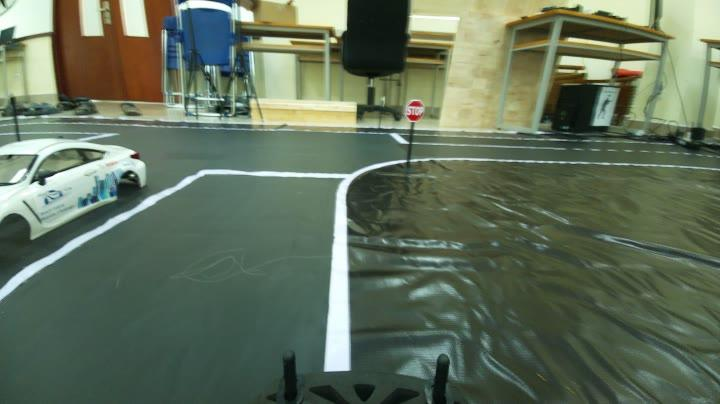stop: (399, 93, 428, 127)
